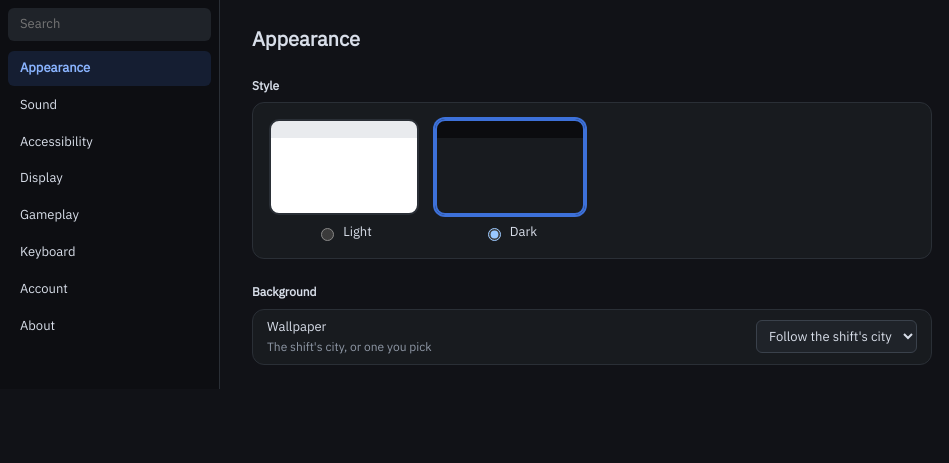
it: SettingsApp › Keyboard lists the shortcuts
This screenshot has width=949, height=463.
Click the button "Keyboard" at (110, 252), box [8,235,211,270]
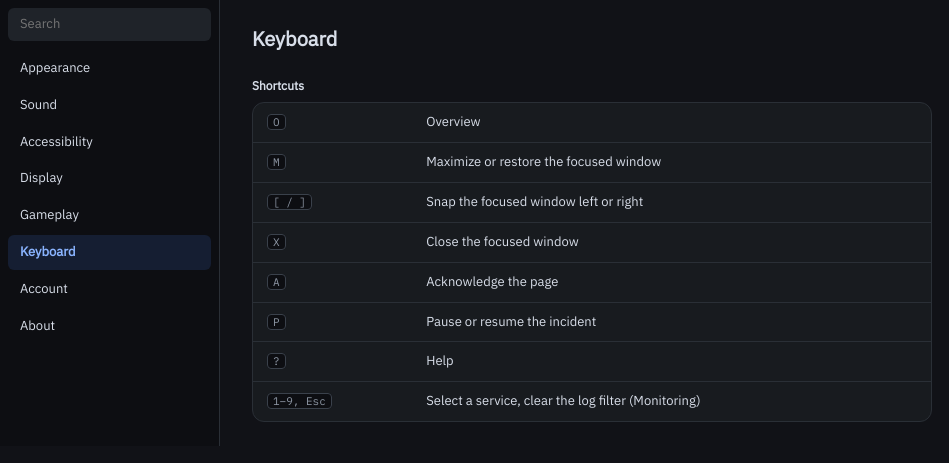
Now the table named "Keyboard shortcuts" shows "Acknowledge", box [426,273,558,290]
Now the row "?" shows "Help", box [426,352,454,370]
